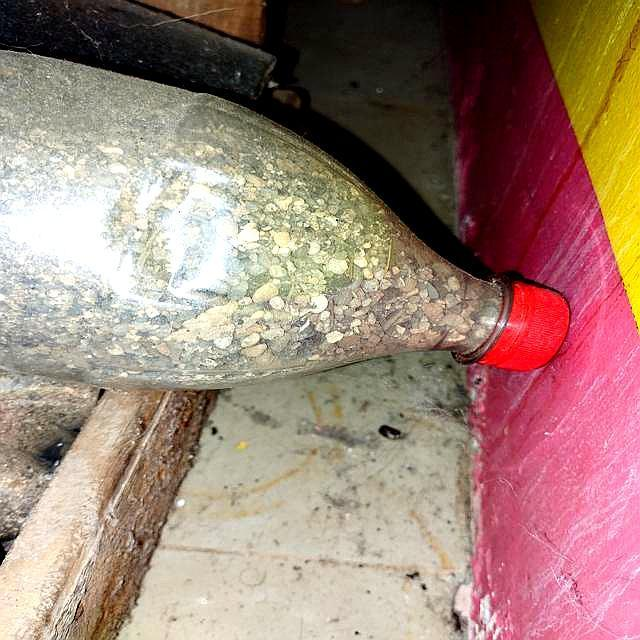Non-biodegradable: (1, 37, 569, 397)
